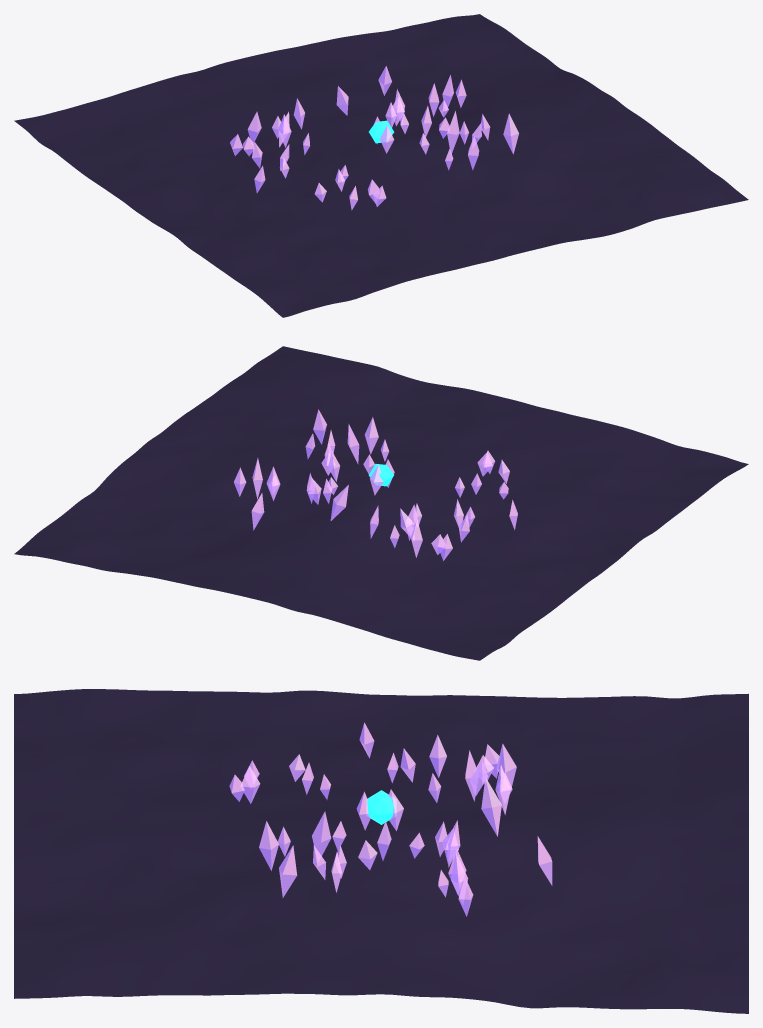
Rendered from Preset-crystal-cave.glb.
The picture shows the model from 3 angles, top to bottom: view 1: azimuth 30°, elevation 25°; view 2: azimuth 150°, elevation 25°; view 3: azimuth 270°, elevation 25°; orthographic projection. The views are drawn at different scales.
Visible parts, largest first — view 1: floor-surface; view 2: floor-surface; view 3: floor-surface, crystals-shard (×3), heart-node.
Part boxes in pixels (x1,y1,x2,y2): floor-surface: [14, 14, 748, 317]; floor-surface: [14, 346, 748, 660]; floor-surface: [14, 689, 748, 1013]; crystals-shard (×3): [259, 777, 501, 897]; heart-node: [367, 790, 393, 824].
Bounding box in the file's own units: 50 × 6.26 × 50.
